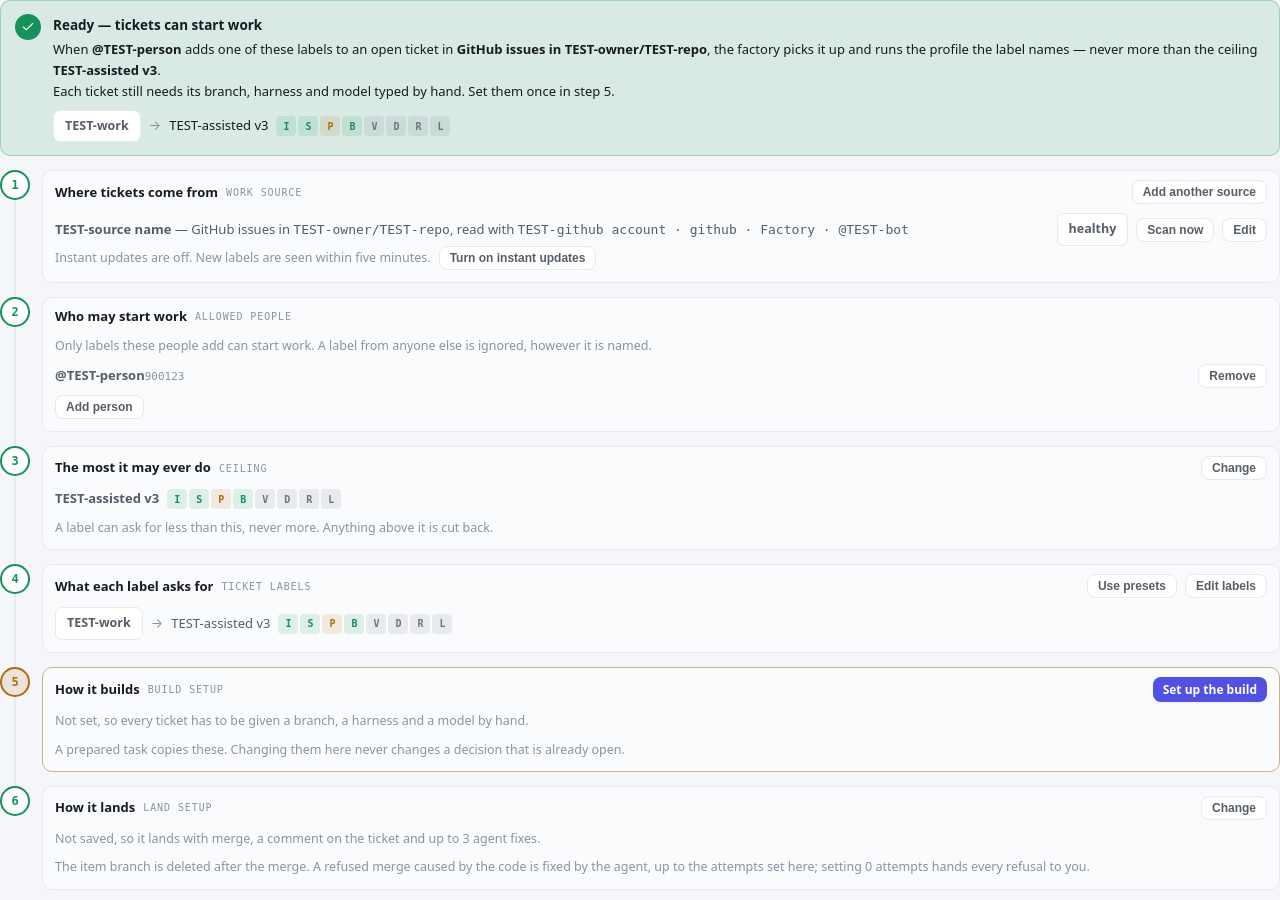
Test: turns on instant updates with an issue webhook bound to the source and reveals its secret once
This screenshot has width=1280, height=900.
Click the button "Turn on instant updates": (518, 258) [439,246,596,270]
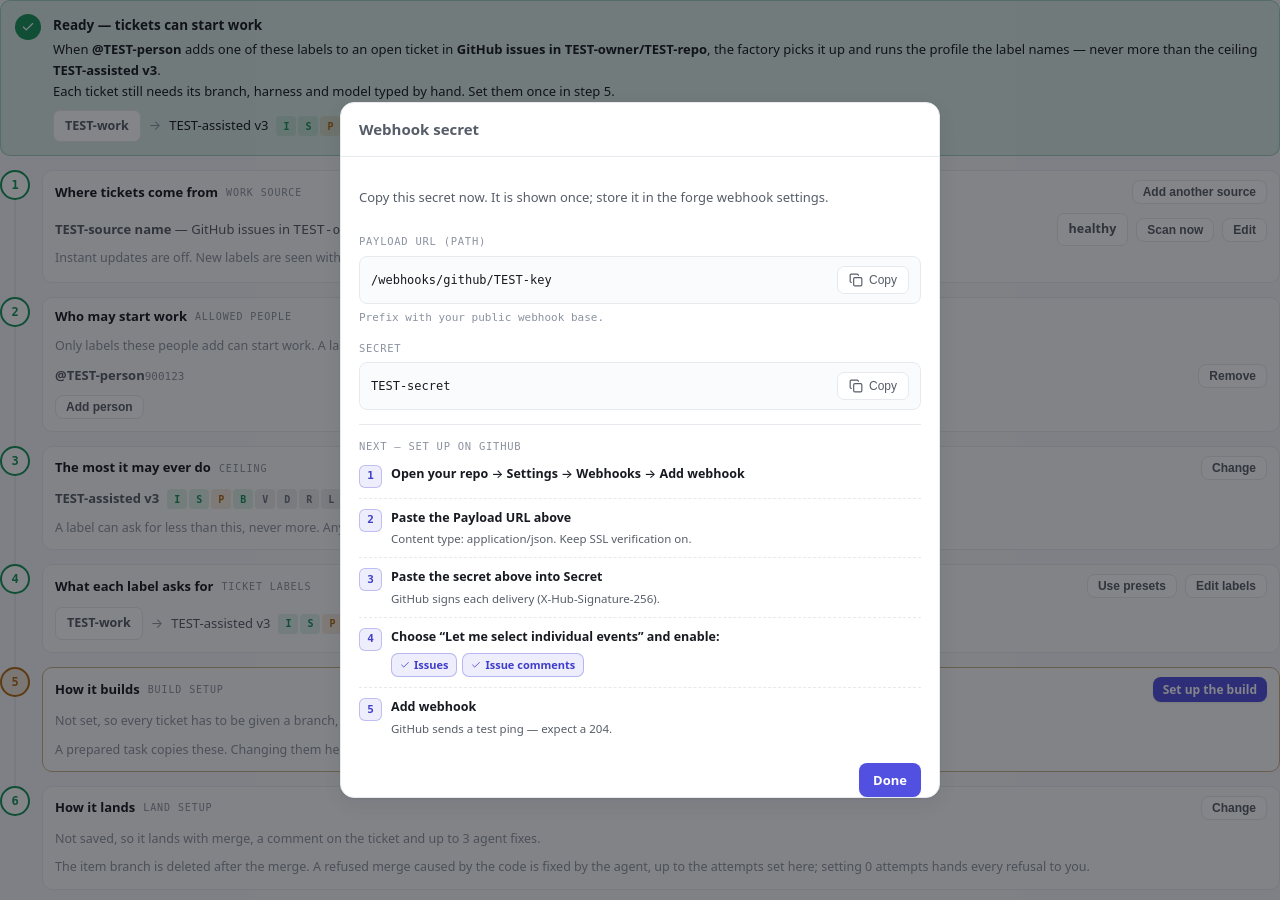
Check: the text "Next — set up on GitHub" is shown, box [359,440,521,452]
Check: the text "Issues" is shown, box [391,653,457,677]
Check: the text "Issue comments" is shown, box [462,653,584,677]
